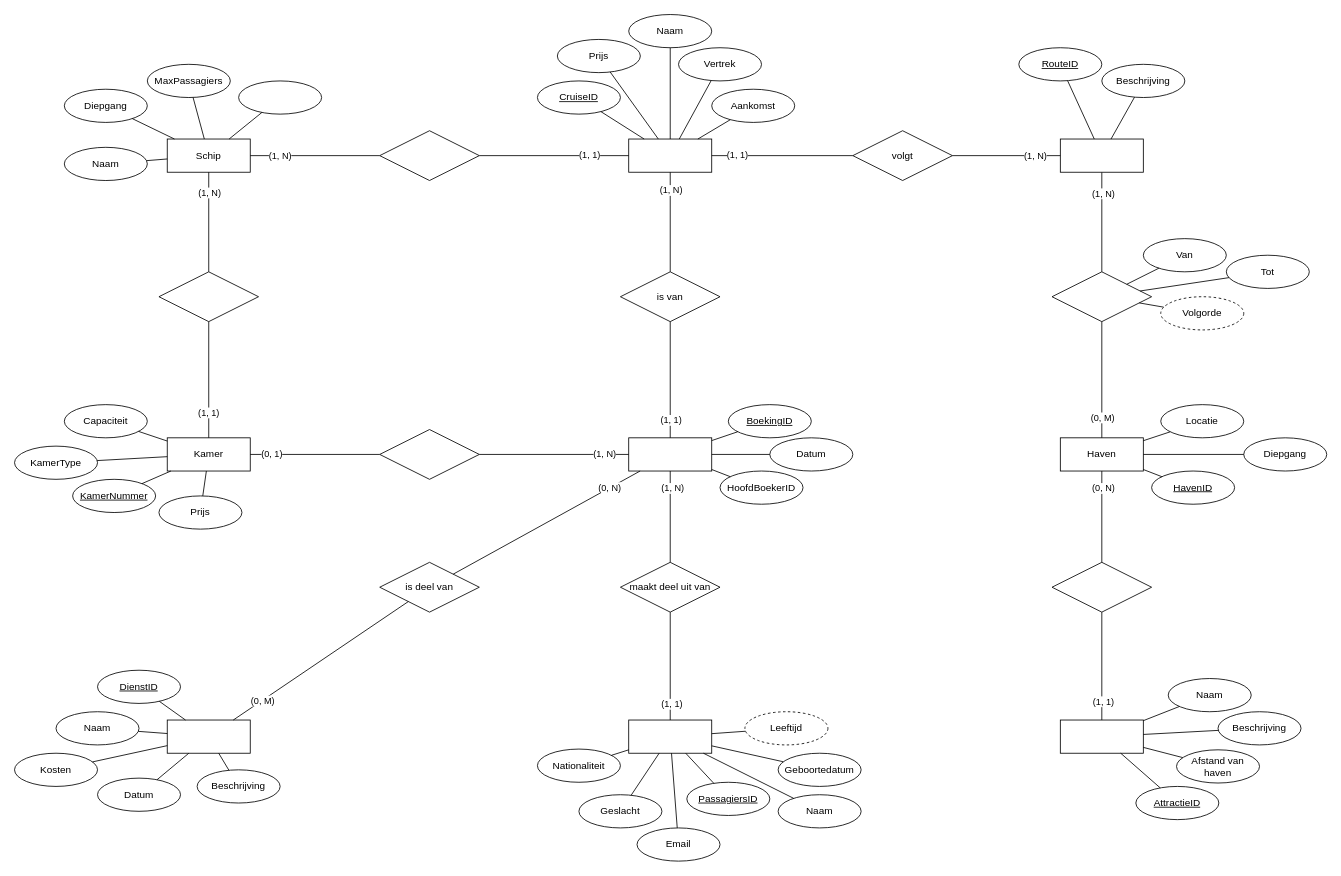
Some shapes in this 1341 by 876 pixel diagram are drawn without their labels. Each missing label, with the centre of its shape:
attractie: pixel 1101 736
Behoort tot: pixel 208 296
Boeking: pixel 670 454
Cruise: pixel 670 155
ExtraDienst: pixel 208 736
IMO-Nummer: pixel 280 97
ligt bij: pixel 1101 586
maakt: pixel 429 155
meert aan: pixel 1101 296
Omvat: pixel 429 454
Passagier: pixel 670 736
Vaarroute: pixel 1101 155
